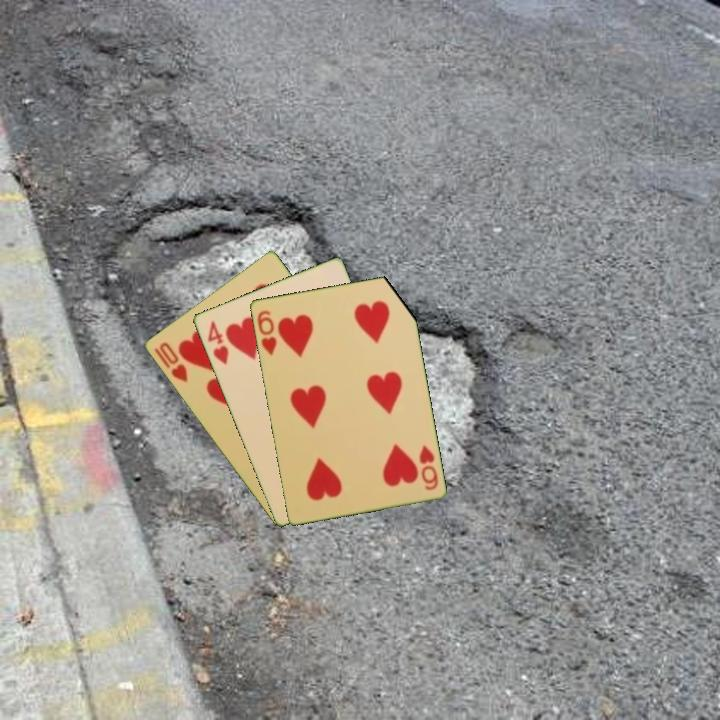10h: (150, 338, 190, 385)
4h: (204, 317, 231, 368)
6h: (415, 441, 441, 493), (253, 307, 279, 358)
